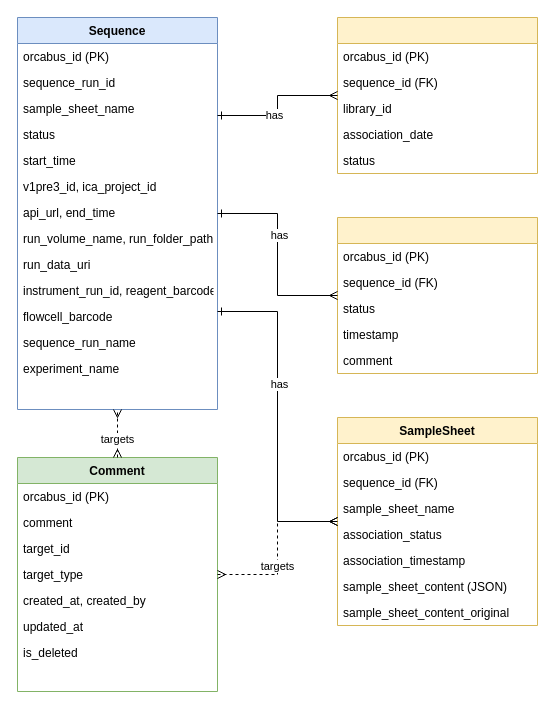
Image size: 555x709. Some labels were removed from this diagram. Here are the shapes that lost their labels. From the top down, the box of each, then its label:
(336, 16, 538, 174): LibraryAssociation
(336, 216, 538, 374): State
